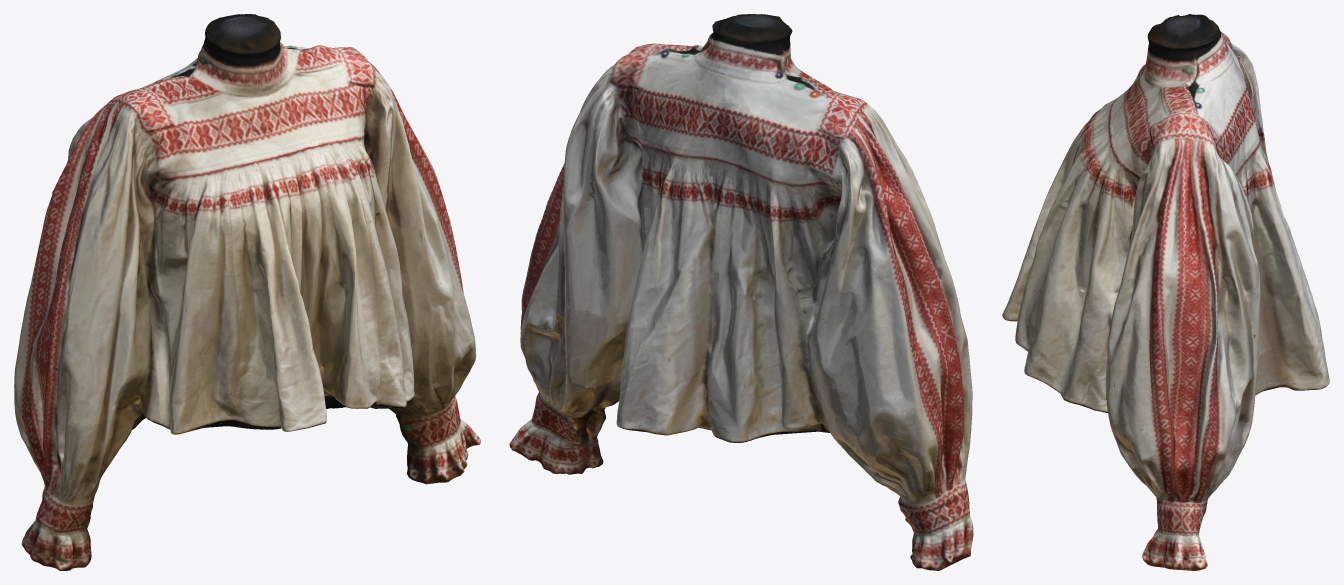
Rendered from shirt_6.glb.
The picture shows the model from 3 angles, left to right: view 1: azimuth 30°, elevation 25°; view 2: azimuth 150°, elevation 25°; view 3: azimuth 270°, elevation 25°; orthographic projection. The views are drawn at different scales.
Visible parts, largest first — view 1: Object_8; view 2: Object_8; view 3: Object_8.
Part boxes in pixels (<box>): Object_8: <box>14,14,480,570</box>; Object_8: <box>509,14,973,570</box>; Object_8: <box>1002,14,1329,570</box>.
Size of the model in its own units: 1.01 by 1.06 by 0.6859.
1 material, 1 textured.
